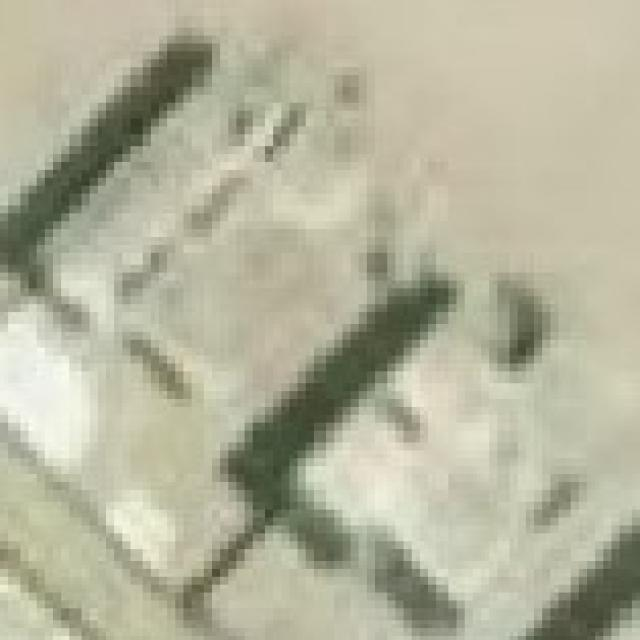Batiment: (313, 311, 633, 640)
